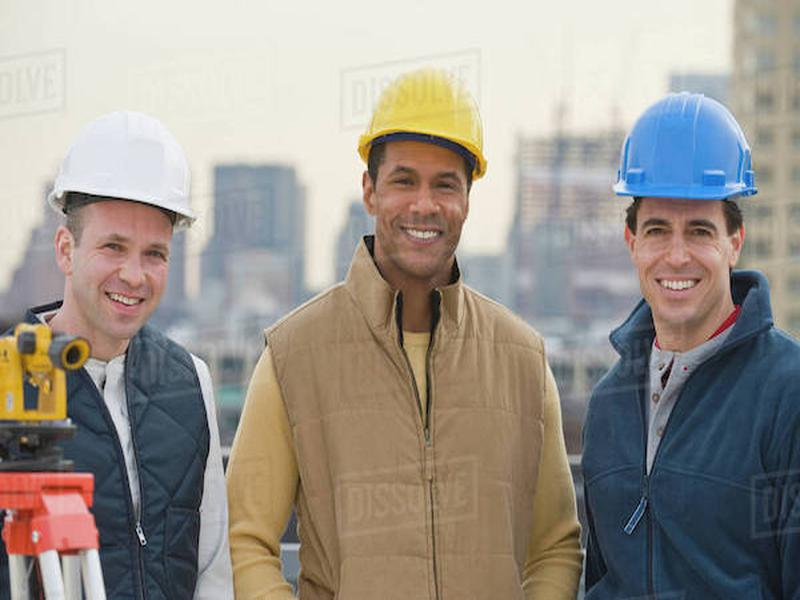hard-hat: (46, 112, 200, 237), (610, 87, 762, 205), (353, 65, 489, 186)
